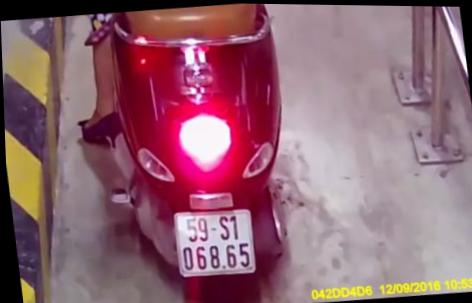LP: (170, 201, 258, 279)
